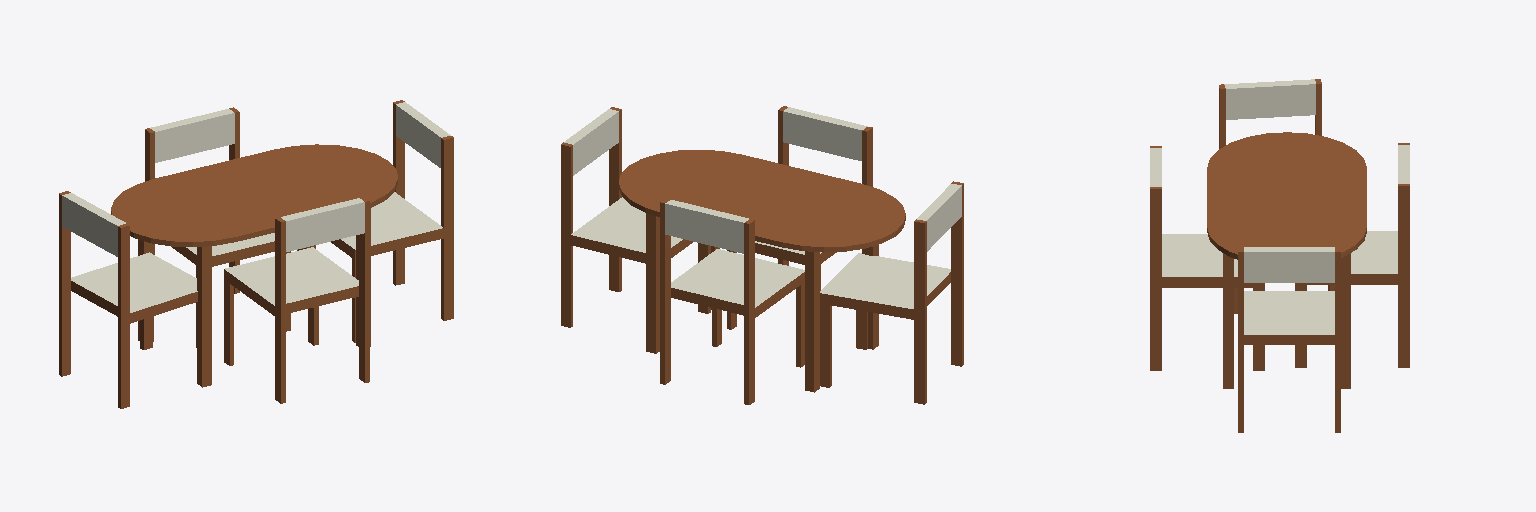
The model's file is DiningSet6.obj.
The picture shows the model from 3 angles: view 1: azimuth 30°, elevation 25°; view 2: azimuth 150°, elevation 25°; view 3: azimuth 270°, elevation 25°; orthographic projection.
Bounding box in the file's own units: 71.49 × 35 × 45.42.